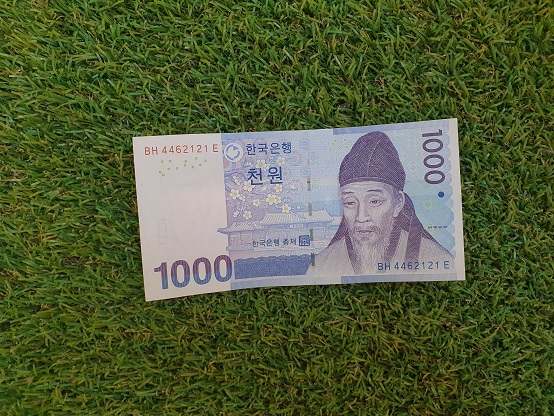1000won: (132, 117, 467, 303)
